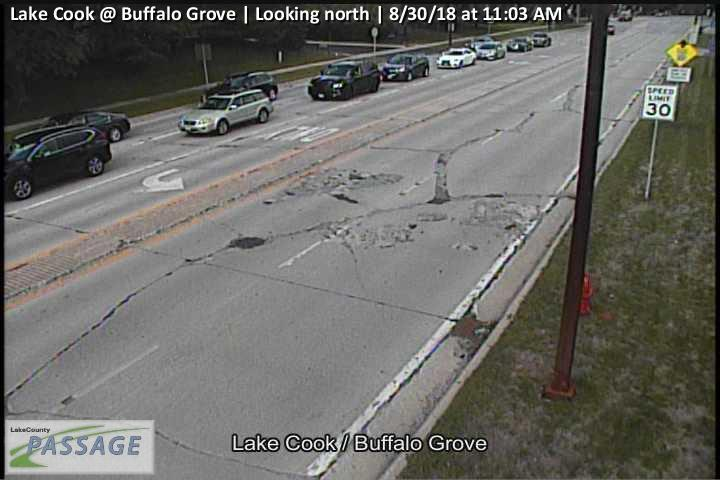SUV: (5, 125, 111, 200), (305, 60, 379, 102), (199, 71, 278, 107), (382, 52, 430, 83)
Sedan: (176, 89, 273, 136), (32, 110, 130, 145), (434, 46, 477, 70), (477, 41, 505, 61), (506, 35, 534, 52), (527, 32, 551, 46)
